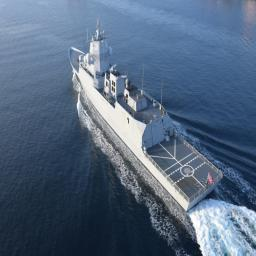Fragata: (68, 18, 226, 214)
